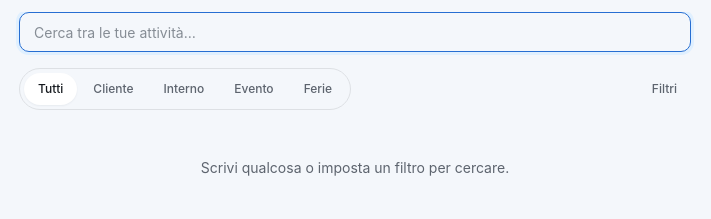
Test: SearchView › accanto al conteggio mostra le ore dei risultati
Type "gamma" into the search field labelled "Cerca" at (355, 32), box [19, 12, 691, 52]
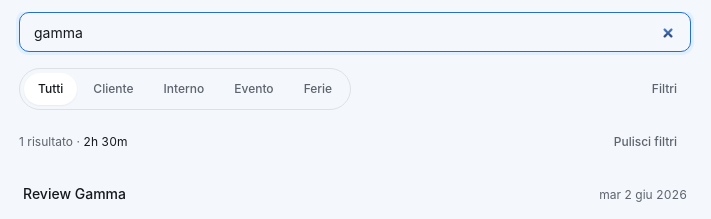
Expected: the text "2h 30m" is shown, [83, 134, 128, 149]
